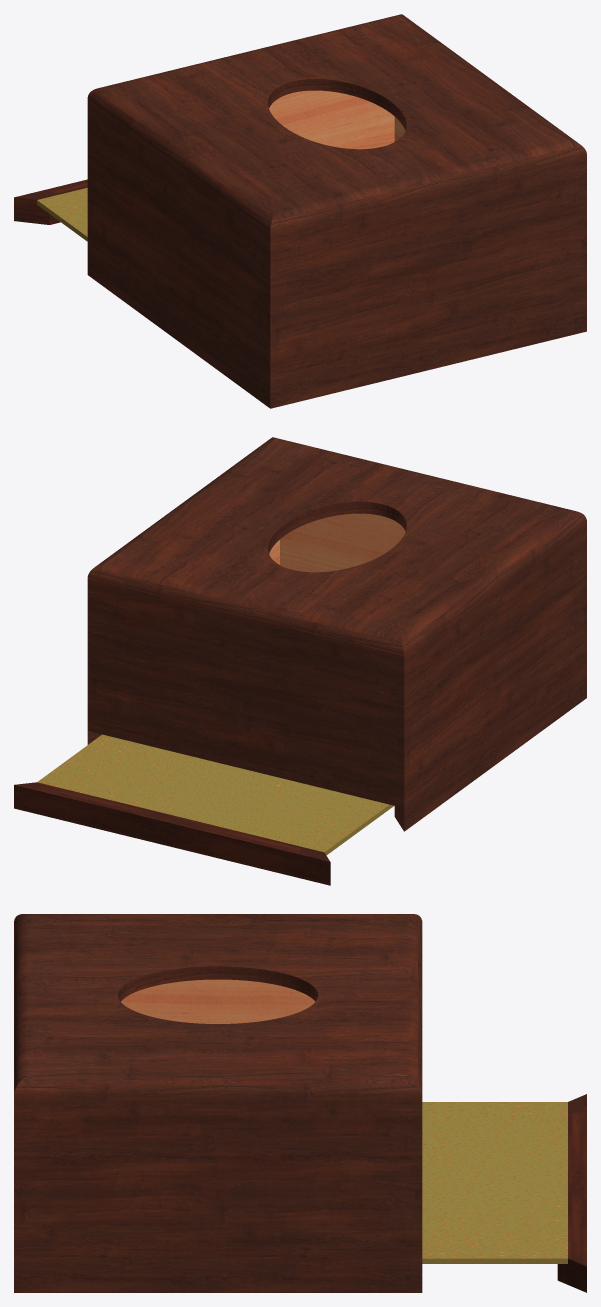
Rendered from Square Tissue Box_FBX.fbx.
3 views of the same model, one above another, from view 1: azimuth 30°, elevation 25°; view 2: azimuth 150°, elevation 25°; view 3: azimuth 270°, elevation 25° (orthographic). The views are drawn at different scales.
Visible parts, largest first — view 1: Cube; view 2: Cube; view 3: Cube.
Boxes of the visible parts, x1,y1,x2,y2 form: Cube: (14,14,586,408); Cube: (14,437,586,885); Cube: (14,914,586,1292).
Bounding box in the file's own units: 14 × 8 × 19.64.
2 materials, 2 textured.
